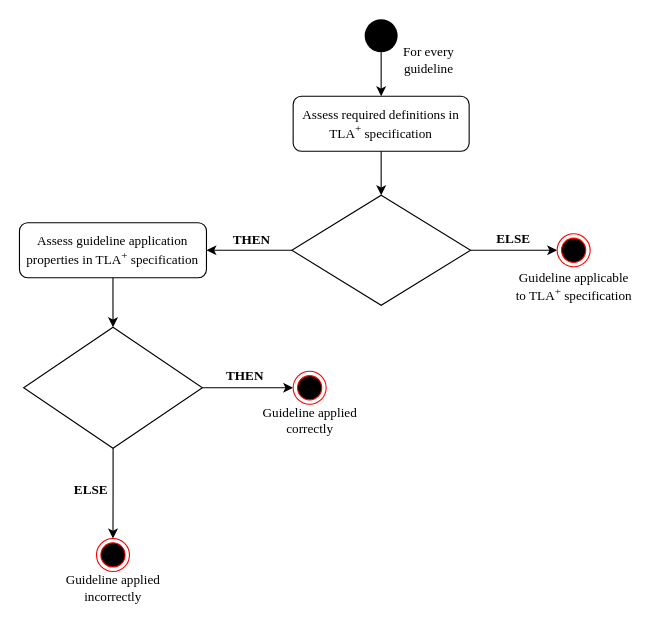
This 659x623 diagram has some shape labels left out. Each missing label, with the centre of its shape:
"IF guideline application properties satisfied" goes at point 112,387.
"IF required definitions met" goes at point 381,249.
